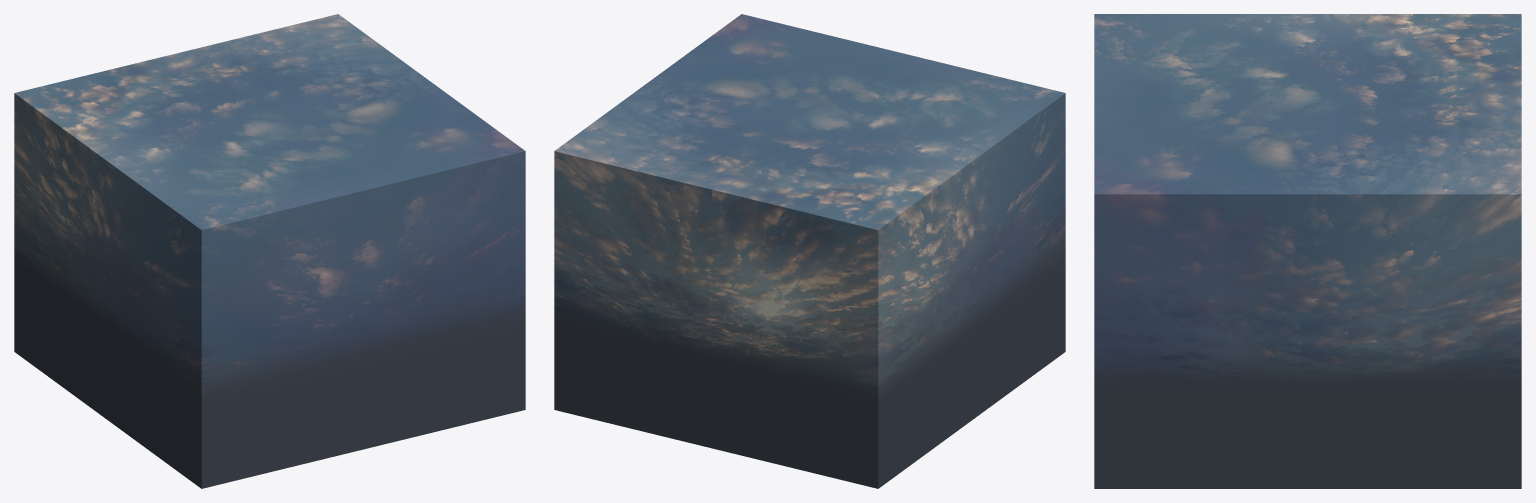
The model's file is SkyBox.fbx.
The picture shows the model from 3 angles, left to right: view 1: azimuth 30°, elevation 25°; view 2: azimuth 150°, elevation 25°; view 3: azimuth 270°, elevation 25°; orthographic projection. The views are drawn at different scales.
Parts seen in each view (by area): view 1: Box16; view 2: Box16; view 3: Box16.
Part boxes in pixels (box(x1,y1,x2,y2)): Box16: box(14, 14, 525, 488); Box16: box(554, 14, 1065, 488); Box16: box(1094, 14, 1521, 488).
Bounding box in the file's own units: 32424 × 24739 × 32482.
